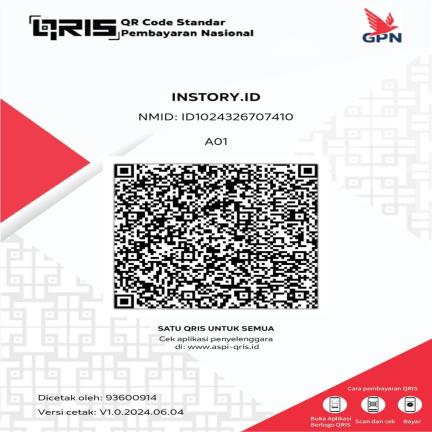Barcode_Palsu: (101, 156, 331, 317)
